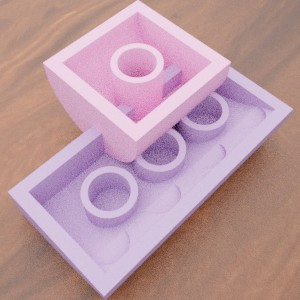lego: (7, 44, 293, 300), (42, 0, 231, 162)
